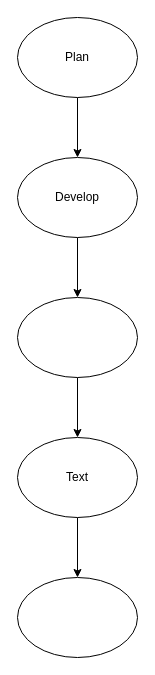
Image size: 155x675. Some labels were removed from this diagram. The shapes that lost their labels are listed below. From the top down, each one's centre as x and y in pixels, then its label:
At (77,337): "Build".
At (77,617): "Relese".
